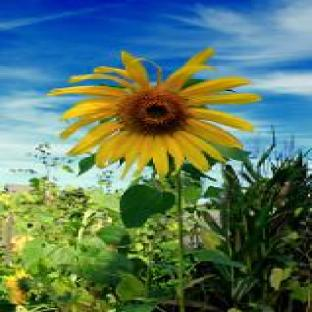sunflower: (47, 48, 261, 178)
